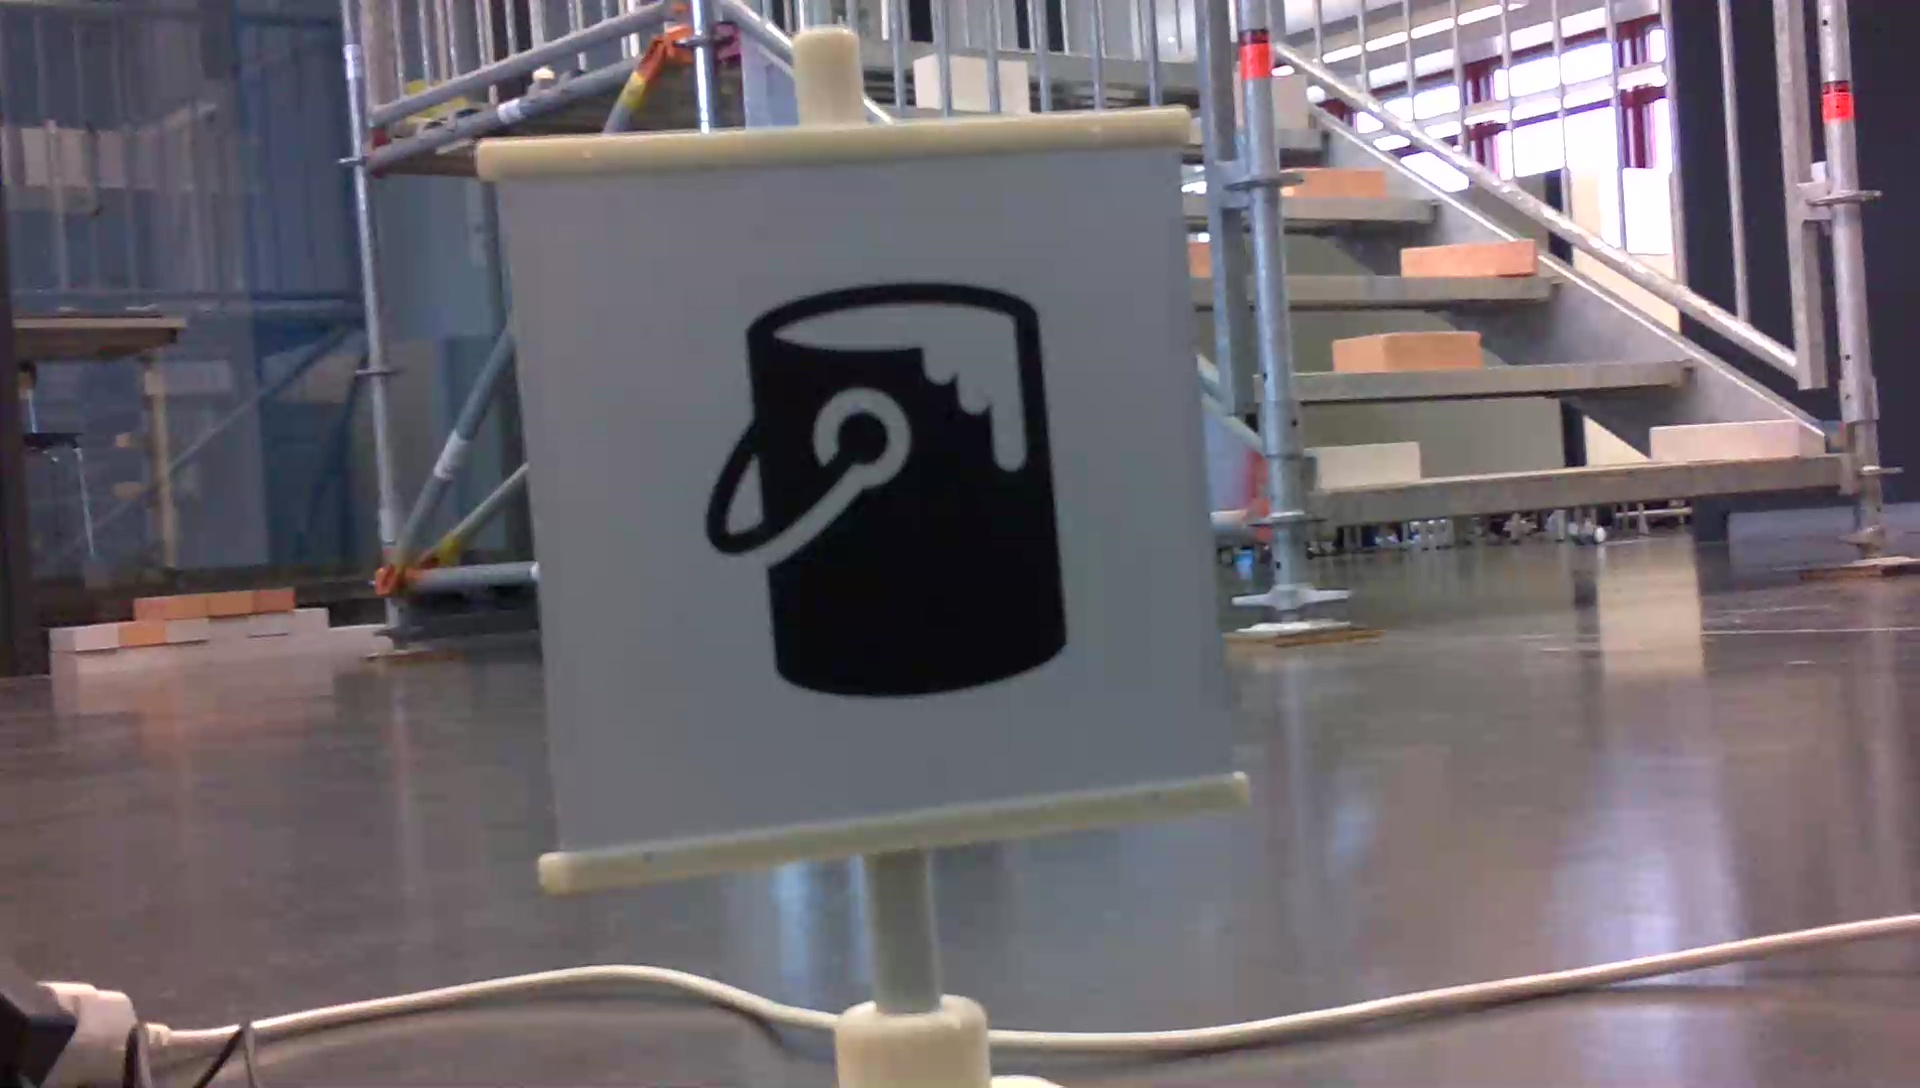brick: (1650, 419, 1797, 458), (1335, 335, 1477, 369), (1403, 243, 1535, 276), (1315, 443, 1418, 485), (1286, 167, 1382, 193), (1275, 75, 1303, 127)
bucket: (688, 273, 1083, 708)
edge: (1328, 460, 1842, 528), (1298, 360, 1710, 400)
